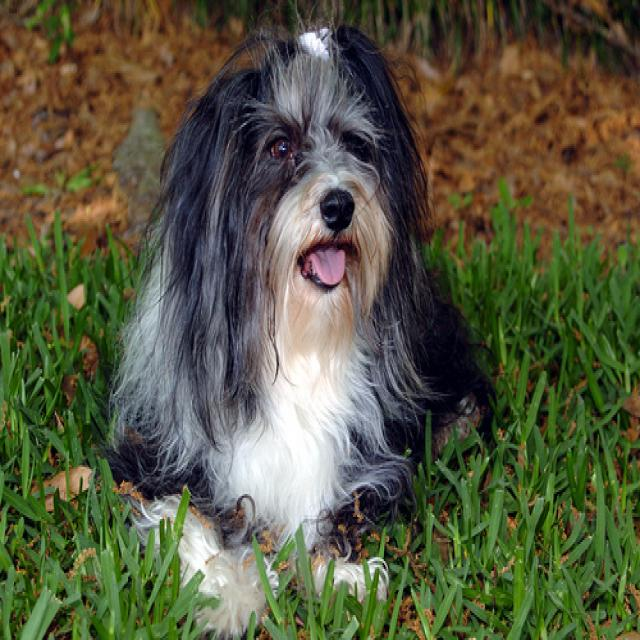dog-havanese: (99, 2, 506, 636)
